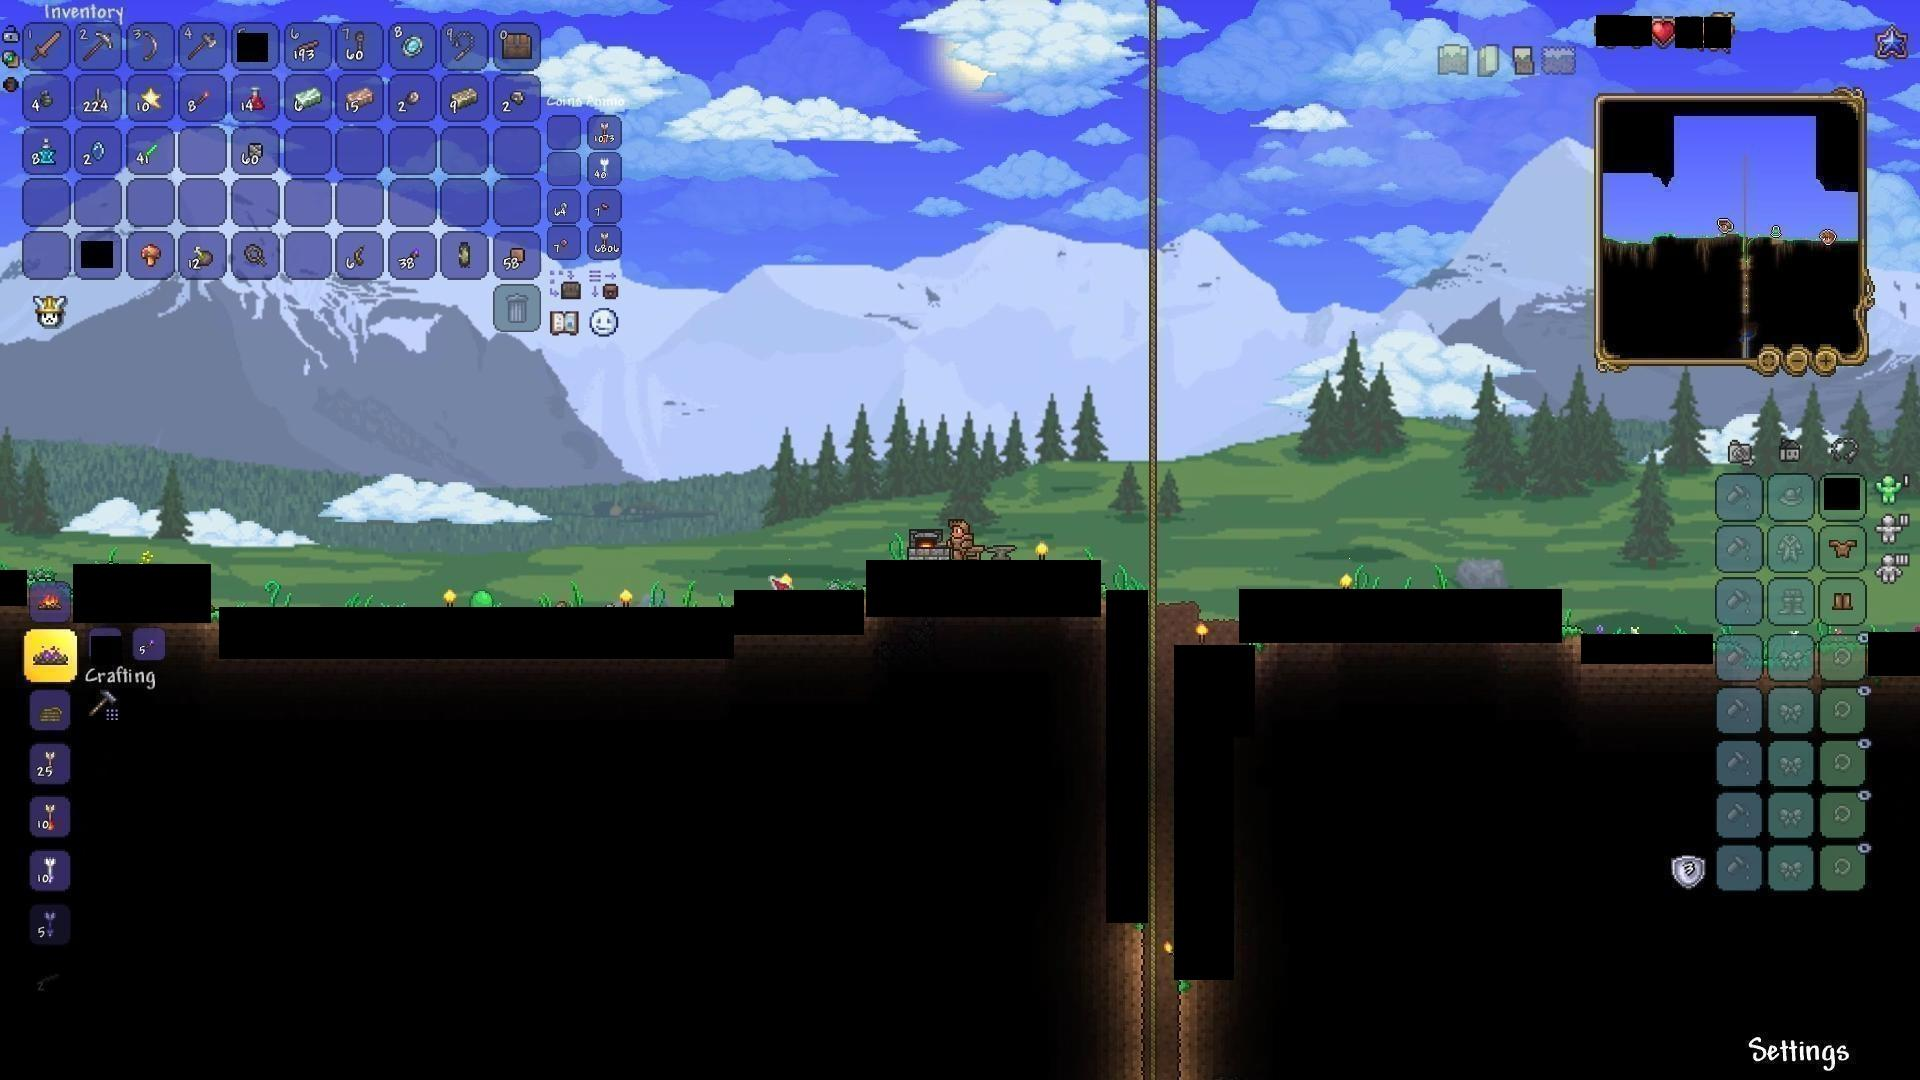breastplate: (1826, 535, 1858, 560)
heart: (1648, 17, 1676, 46)
legs: (1830, 585, 1855, 615)
slime: (468, 585, 498, 615)
